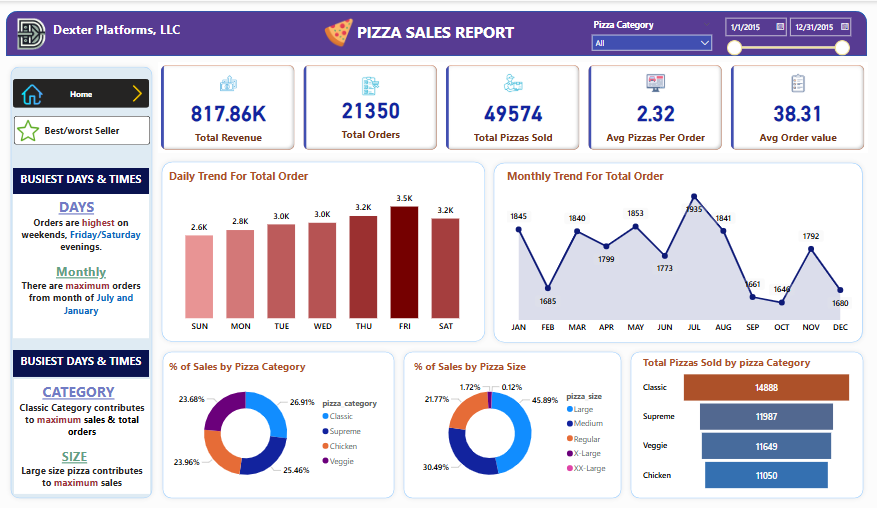

This screenshot's page, from the dashboard's own definition file:
{"tool":"powerbi","page":{"name":"Home","canvas":[1500,870],"ordinal":0},"visuals":[{"type":"cardVisual","fields":{"Data":["_Measures.Total Revenue","_Measures.Total Orders","_Measures.Total Pizzas Sold","_Measures.Avg Pizzas Per Order","_Measures.Avg Order value"]},"box":[272.3,104.6,1210.8,155.4],"z":0},{"type":"shape","box":[13.6,17.1,1468.8,76.8],"z":1000},{"type":"textbox","box":[547.7,29.2,396.9,60],"z":2000},{"type":"image","box":[536.9,24.6,87.7,60],"z":3000},{"type":"shape","box":[271.7,266.9,567.6,323.2],"z":4000},{"type":"columnChart","title":"Daily Trend For Total Order","fields":{"Category":["pizza_sales.Order Day"],"Y":["_Measures.Total Orders"]},"box":[286,284.3,535.1,289.3],"z":5000},{"type":"shape","box":[837.8,267.6,645.5,322.7],"z":6000},{"type":"areaChart","title":"Monthly Trend For Total  Order","fields":{"Y":["_Measures.Total Orders"],"Category":["pizza_sales.Order Month"]},"box":[862.9,284.3,598.7,289.3],"z":7000},{"type":"shape","box":[272.9,590.2,411.1,266.1],"z":8000},{"type":"shape","box":[1071.3,590.2,412.8,266.1],"z":9000},{"type":"shape","box":[684.1,590.2,387.2,266.1],"z":10000},{"type":"donutChart","title":"% of Sales by Pizza Category","fields":{"Category":["pizza_sales.pizza_category"],"Y":["_Measures.Total Revenue"]},"box":[286.6,610.7,380.4,230.3],"z":11000},{"type":"donutChart","title":"% of Sales by Pizza Size","fields":{"Y":["_Measures.Total Revenue"],"Category":["pizza_sales.pizza_size"]},"box":[704.5,610.7,349.7,230.3],"z":12000},{"type":"funnel","title":"Total Pizzas Sold by pizza Category","fields":{"Category":["pizza_sales.pizza_category"],"Y":["_Measures.Total Pizzas Sold"]},"box":[1095.2,603.9,366.8,237.1],"z":13000},{"type":"shape","box":[13.6,104.1,257.6,752.3],"z":14000},{"type":"textbox","box":[25.7,284.6,231.5,45],"z":15000},{"type":"textbox","box":[25.6,329.2,232,245.6],"z":16000},{"type":"textbox","box":[25.6,595.4,232,46.1],"z":17000},{"type":"textbox","box":[27.3,644.8,232,196.2],"z":18000},{"type":"slicer","fields":{"Values":["pizza_sales.pizza_category"]},"box":[1002.8,25,225,63.9],"z":19000},{"type":"slicer","fields":{"Values":["pizza_sales.order_date"]},"box":[1227.8,18.1,233.3,97.2],"z":20000},{"type":"pageNavigator","box":[25.6,133.1,232,49],"z":21000},{"type":"pageNavigator","box":[27.3,196.2,232,49.5],"z":22000},{"type":"image","box":[218.4,138.2,39.2,39.2],"z":23000},{"type":"image","box":[27.3,136.5,61.4,46.1],"z":24000},{"type":"image","box":[27.3,196.2,47.8,49.5],"z":25000},{"type":"textbox","box":[88.7,29,237.1,56.3],"z":26000},{"type":"image","box":[17.1,17.1,81.9,76.8],"z":26001}]}

Visuals, with their boxes in screenshot pixels (x1, y1, x2, y2), scaled from the page's 1500x870 canvas onto the 877x508 screenshot:
cardVisual - _Measures.Total Revenue x _Measures.Total Orders: box(159, 61, 867, 152)
shape: box(8, 10, 867, 55)
textbox: box(320, 17, 552, 52)
image: box(314, 14, 365, 49)
shape: box(159, 156, 491, 345)
"Daily Trend For Total Order" columnChart: box(167, 166, 480, 335)
shape: box(490, 156, 867, 345)
"Monthly Trend For Total  Order" areaChart: box(505, 166, 855, 335)
shape: box(160, 345, 400, 500)
shape: box(626, 345, 868, 500)
shape: box(400, 345, 626, 500)
"% of Sales by Pizza Category" donutChart: box(168, 357, 390, 491)
"% of Sales by Pizza Size" donutChart: box(412, 357, 616, 491)
"Total Pizzas Sold by pizza Category" funnel: box(640, 353, 855, 491)
shape: box(8, 61, 159, 500)
textbox: box(15, 166, 150, 192)
textbox: box(15, 192, 151, 336)
textbox: box(15, 348, 151, 375)
textbox: box(16, 377, 152, 491)
slicer - pizza_sales.pizza_category: box(586, 15, 718, 52)
slicer - pizza_sales.order_date: box(718, 11, 854, 67)
pageNavigator: box(15, 78, 151, 106)
pageNavigator: box(16, 115, 152, 143)
image: box(128, 81, 151, 104)
image: box(16, 80, 52, 107)
image: box(16, 115, 44, 143)
textbox: box(52, 17, 190, 50)
image: box(10, 10, 58, 55)
